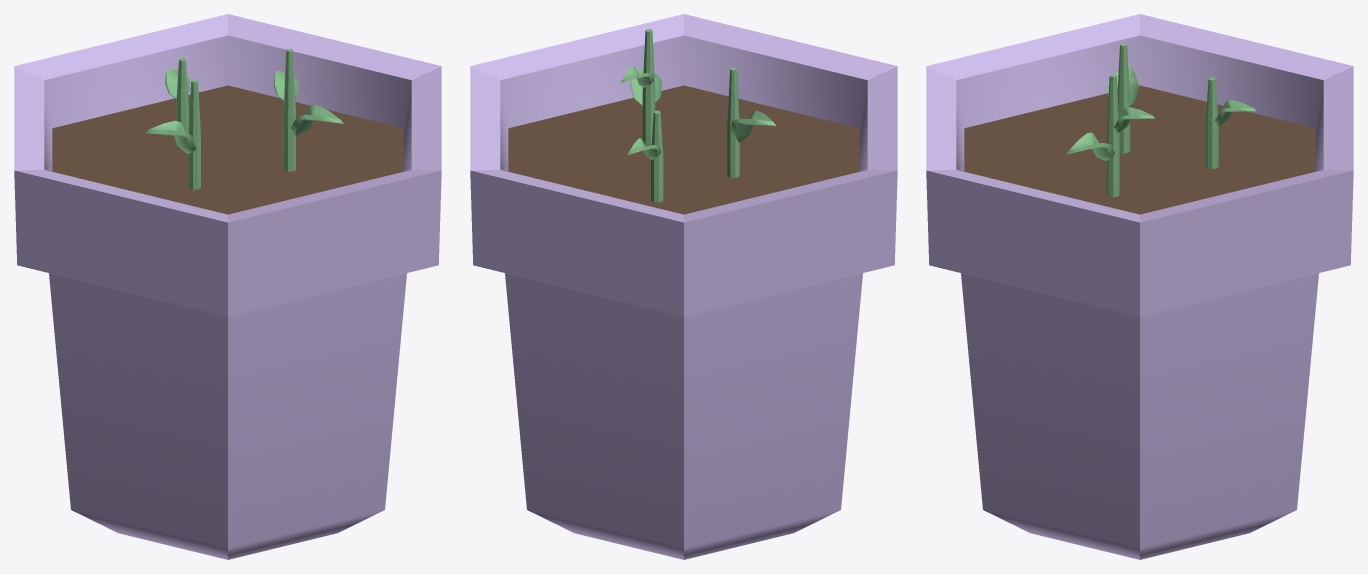
The model's file is plant06_02.gltf.
The picture shows the model from 3 angles, left to right: view 1: azimuth 30°, elevation 25°; view 2: azimuth 150°, elevation 25°; view 3: azimuth 270°, elevation 25°; orthographic projection.
Parts seen in each view (by area): view 1: plant06_stage02:pot, plant06_stage02:dirt, pCylinder3, pCylinder1, pCylinder2, pCube5, pCube3; view 2: plant06_stage02:pot, plant06_stage02:dirt, pCylinder3, pCylinder1, pCylinder2, pCube3; view 3: plant06_stage02:pot, plant06_stage02:dirt, pCylinder3, pCylinder2, pCylinder1, pCube5.
Part boxes in pixels (x1,y1,x2,y2): plant06_stage02:pot: [14, 14, 441, 559]; plant06_stage02:dirt: [52, 85, 403, 214]; pCylinder3: [283, 48, 295, 171]; pCylinder1: [188, 79, 200, 189]; pCylinder2: [176, 58, 188, 149]; pCube5: [290, 105, 343, 136]; pCube3: [145, 120, 196, 153]; plant06_stage02:pot: [470, 14, 897, 559]; plant06_stage02:dirt: [508, 85, 859, 214]; pCylinder3: [642, 29, 655, 146]; pCylinder1: [727, 67, 739, 177]; pCylinder2: [651, 110, 663, 202]; pCube3: [730, 110, 775, 142]; plant06_stage02:pot: [926, 14, 1353, 559]; plant06_stage02:dirt: [964, 85, 1315, 214]; pCylinder3: [1106, 74, 1119, 197]; pCylinder2: [1205, 77, 1218, 169]; pCylinder1: [1117, 43, 1130, 153]; pCube5: [1066, 132, 1114, 160].
Size of the model in its own units: 0.0193 by 0.0196 by 0.0167.
Materials: 2 (2 with a texture image).
